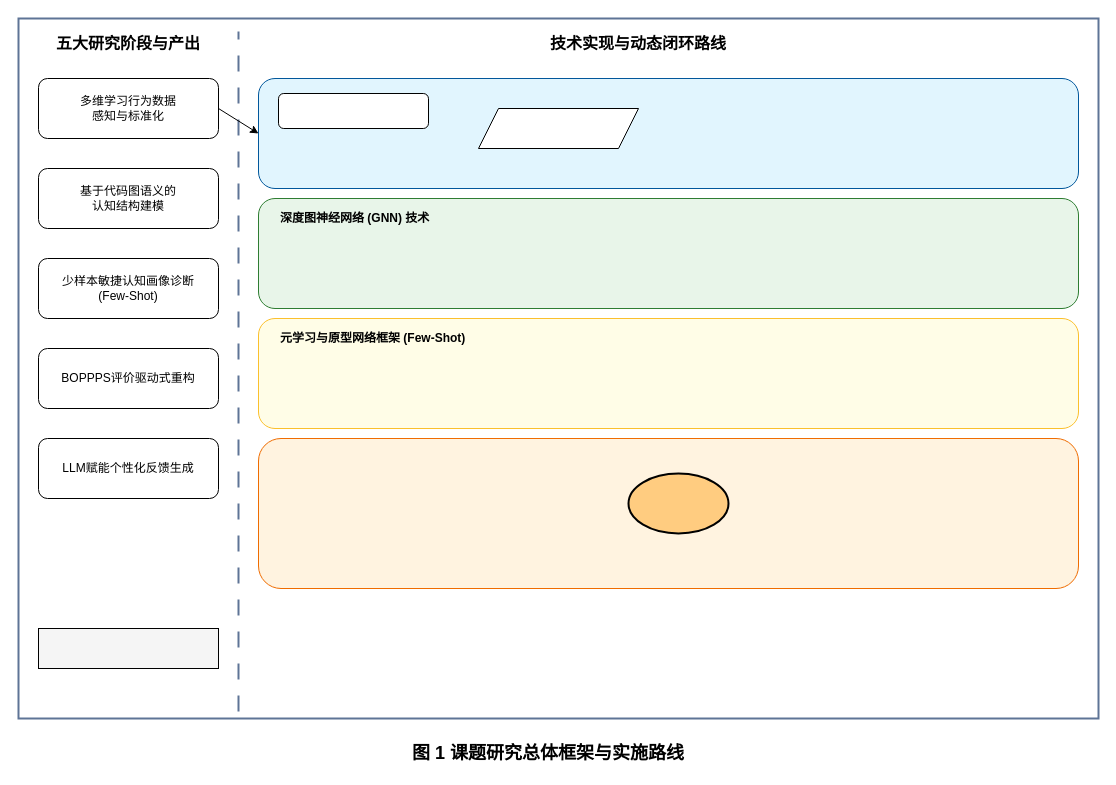
This 1116x785 diagram has some shape labels left out. The box of each missing label's shape, as (x1, y1, x2, y2) in pixels:
Python公共课知识库: (278, 92, 428, 128)
最终产出：智慧教育教学新范式: (38, 628, 218, 668)
评价引擎: (627, 472, 729, 534)
采集、清洗、语义标准化: (478, 108, 638, 148)
